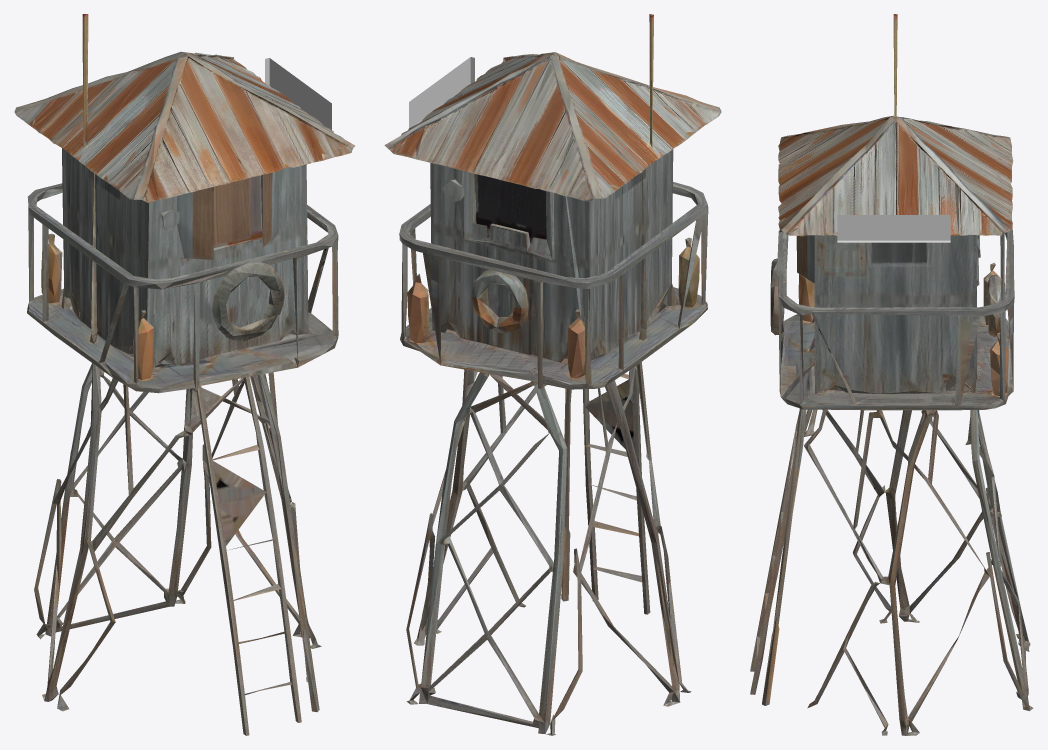
The model's file is militia_observation_post.glb.
3 renders of one model, left to right at view 1: azimuth 30°, elevation 25°; view 2: azimuth 150°, elevation 25°; view 3: azimuth 270°, elevation 25°, orthographic. The views are drawn at different scales.
Visible parts, largest first — view 1: metal, wall, glass; view 2: metal, wall, glass; view 3: metal, wall, glass.
Part boxes in pixels (x1,y1,x2,y2): metal: [27, 148, 338, 735]; wall: [14, 14, 355, 340]; glass: [265, 58, 331, 129]; metal: [399, 158, 708, 735]; wall: [384, 14, 721, 338]; glass: [409, 57, 474, 127]; metal: [750, 230, 1033, 735]; wall: [773, 14, 1014, 393]; glass: [837, 215, 950, 242].
Bounding box in the file's own units: 2.95 × 7.24 × 3.
Materials: 1 (1 with a texture image).
